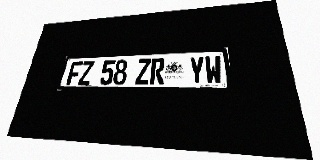5: (99, 60, 116, 85)
8: (112, 59, 128, 85)
F: (66, 61, 83, 85)
R: (150, 58, 165, 84)
W: (205, 55, 223, 84)
Y: (189, 56, 205, 84)
Z: (135, 58, 151, 85), (78, 61, 94, 85)
